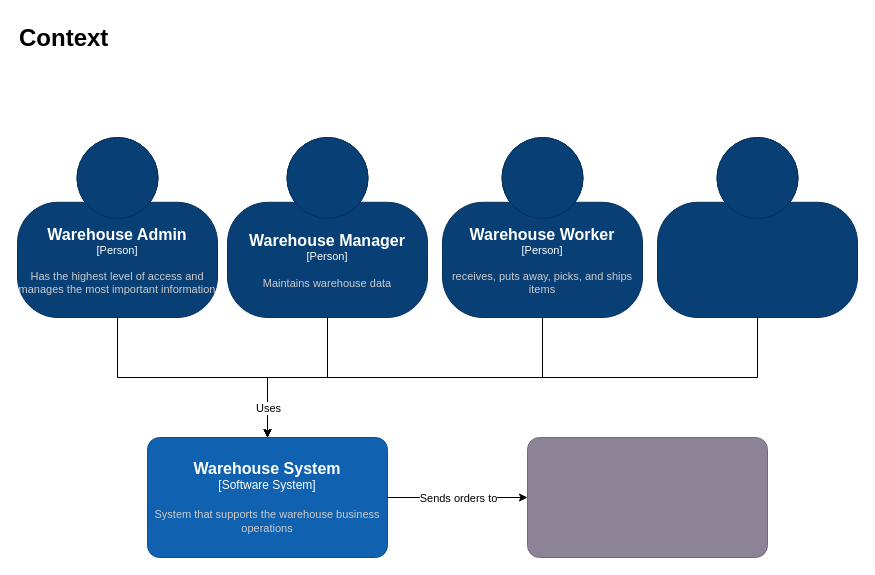
Some shapes in this 875 by 575 pixel diagram are drawn without their labels. Each missing label, with the centre of its shape:
"Driver [Person] Loads trucks and delivers items to customers" goes at (x=757, y=227).
"Supplier System [Software System] Supplier System" goes at (x=647, y=497).
